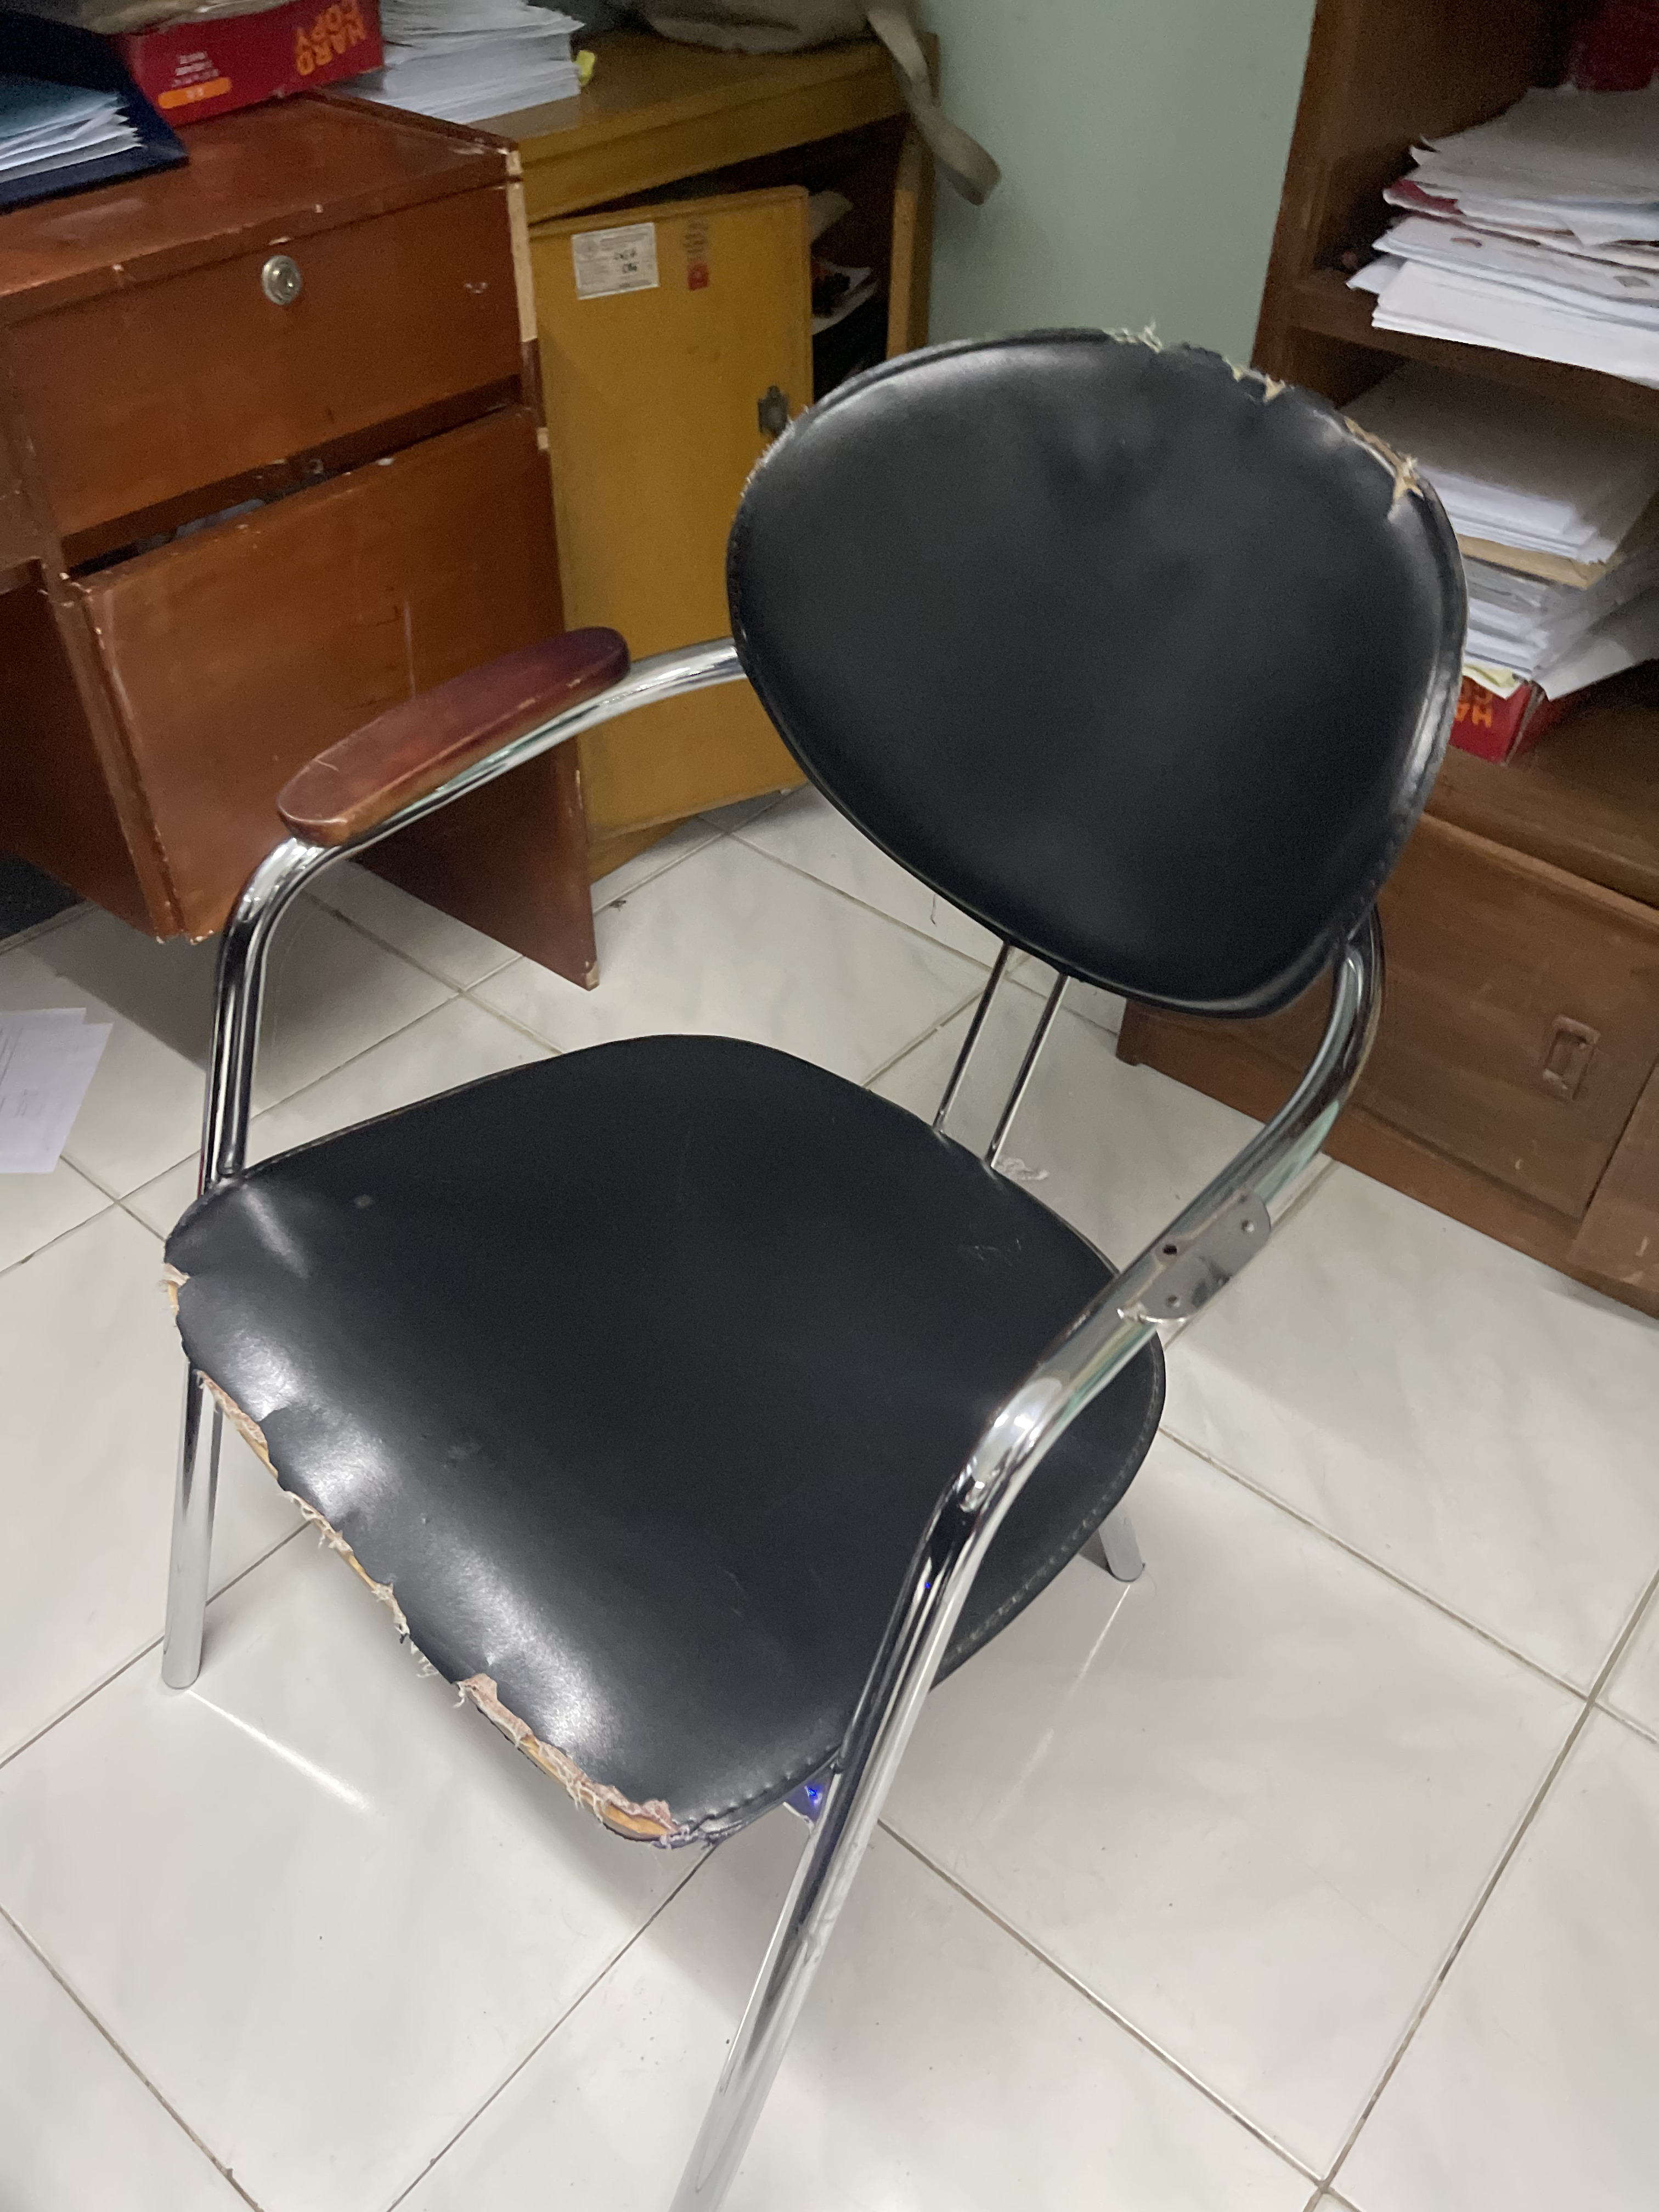chair1: (146, 324, 1473, 2212)
